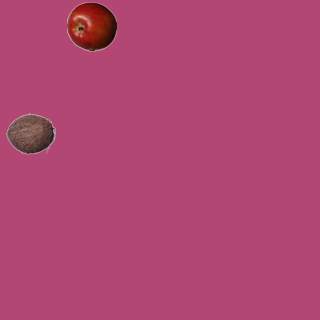Apple Braeburn: (66, 1, 116, 51)
Cocos: (5, 108, 55, 158)
